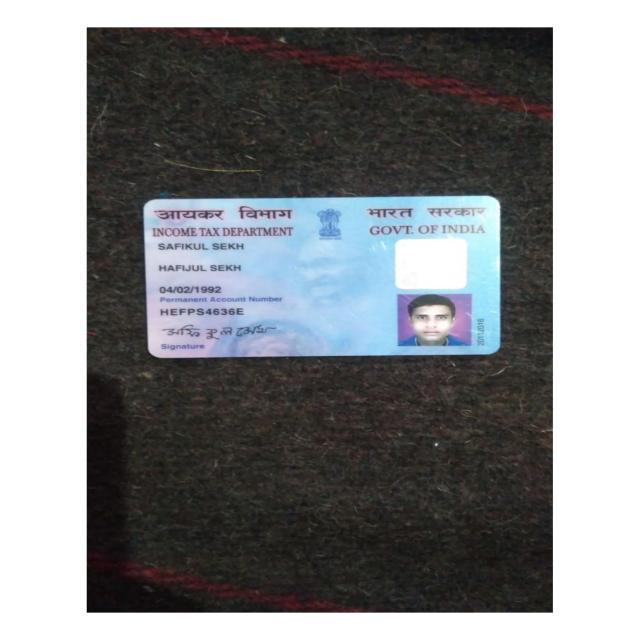pan_card: (145, 198, 498, 358)
